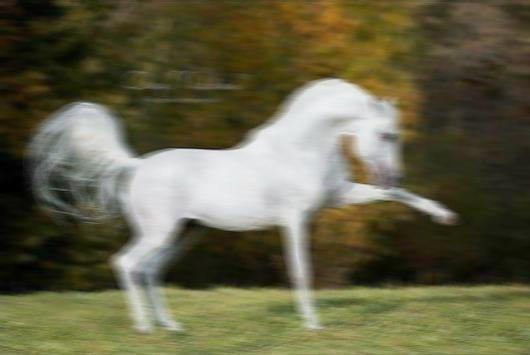horse: (26, 76, 460, 335)
